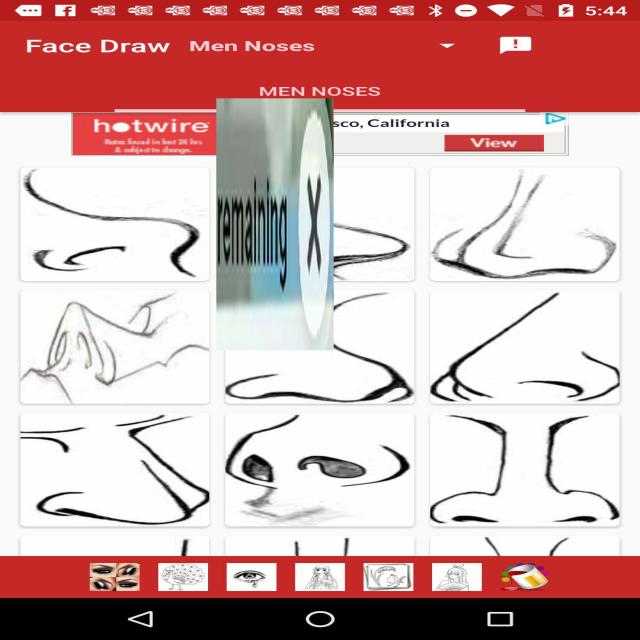misdirection: (216, 98, 334, 350)
